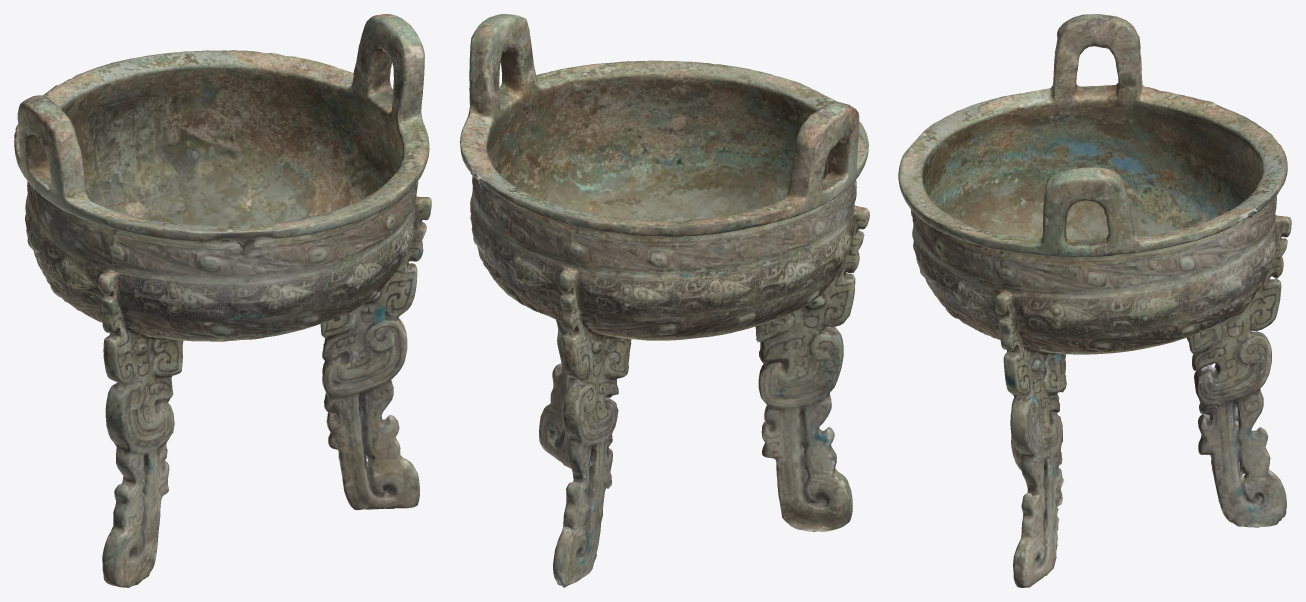
Rendered from ding.glb.
3 views of the same model, side by side, from view 1: azimuth 30°, elevation 25°; view 2: azimuth 150°, elevation 25°; view 3: azimuth 270°, elevation 25° (orthographic). The views are drawn at different scales.
Visible parts, largest first — view 1: Object_2; view 2: Object_2; view 3: Object_2.
Part boxes in pixels (x1,y1,x2,y2): Object_2: (14,14,431,587); Object_2: (460,14,869,587); Object_2: (898,14,1291,587).
Bounding box in the file's own units: 0.1633 × 0.1977 × 0.1614.
Materials: 1 (1 with a texture image).
